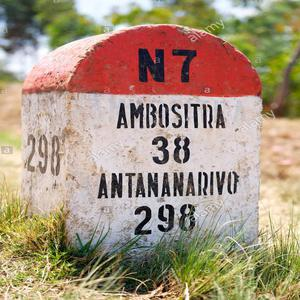kmstone: (21, 29, 269, 254)
